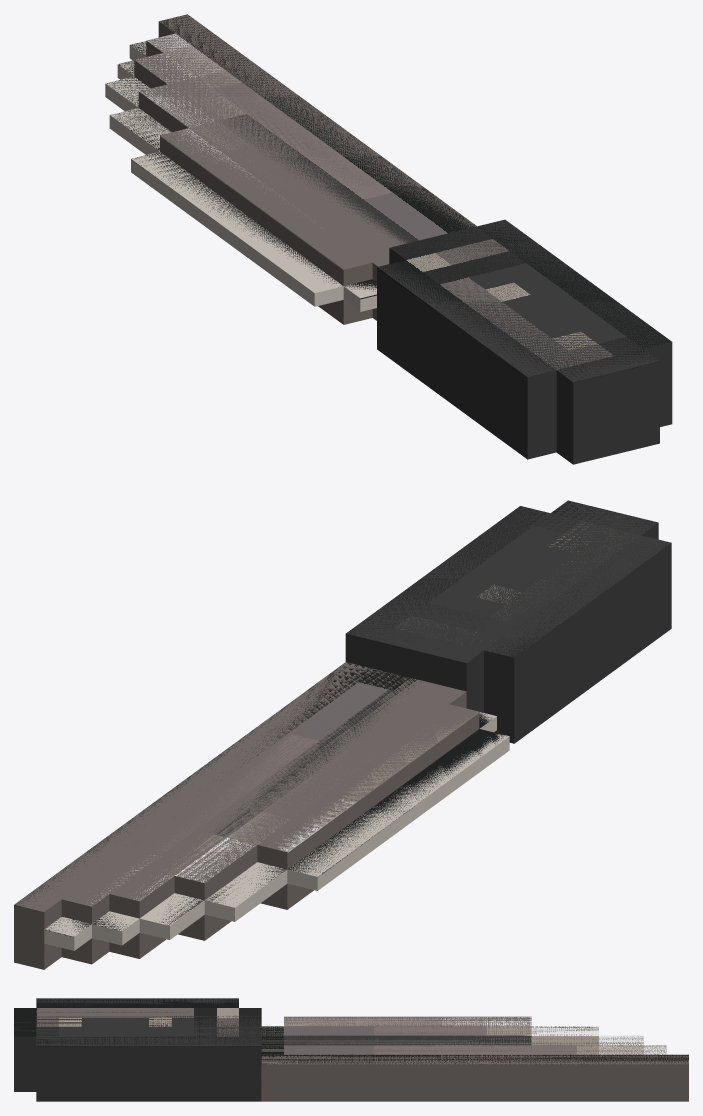
Rendered from CMU3DLooseKitchenKnife.glb.
3 renders of one model, top to bottom at view 1: azimuth 30°, elevation 25°; view 2: azimuth 150°, elevation 25°; view 3: azimuth 270°, elevation 25°, orthographic. The views are drawn at different scales.
Parts seen in each view (by area): view 1: riveted dark knife handle original surface, steel blade spine and tang original surface, riveted dark knife handle solid 2, riveted dark knife handle solid 1, riveted dark knife handle solid 3, steel blade spine and tang solid 5, thin source curved cutting edge solid 5, steel blade spine and tang solid 4, steel blade spine and tang solid 1, steel blade spine and tang solid 3, steel blade spine and tang solid 2, thin source curved cutting edge original surface (+3 smaller); view 2: riveted dark knife handle solid 1, riveted dark knife handle solid 2, steel blade spine and tang original surface, steel blade spine and tang solid 1, steel blade spine and tang solid 3, steel blade spine and tang solid 5, steel blade spine and tang solid 4, steel blade spine and tang solid 2, riveted dark knife handle original surface, thin source curved cutting edge solid 5, thin source curved cutting edge original surface, thin source curved cutting edge solid 4 (+4 smaller); view 3: steel blade spine and tang solid 1, riveted dark knife handle solid 1, steel blade spine and tang original surface, riveted dark knife handle original surface, steel blade spine and tang solid 5, steel blade spine and tang solid 2, steel blade spine and tang solid 4, steel blade spine and tang solid 3, riveted dark knife handle solid 3, riveted dark knife handle solid 2.
Boxes of the visible parts, <box> form: riveted dark knife handle original surface: <box>377,220,671,382</box>; steel blade spine and tang original surface: <box>138,14,475,270</box>; riveted dark knife handle solid 2: <box>377,262,556,459</box>; riveted dark knife handle solid 1: <box>389,219,672,426</box>; riveted dark knife handle solid 3: <box>556,349,659,464</box>; steel blade spine and tang solid 5: <box>160,128,372,324</box>; thin source curved cutting edge solid 5: <box>131,151,343,306</box>; steel blade spine and tang solid 4: <box>138,84,390,320</box>; steel blade spine and tang solid 1: <box>158,14,476,231</box>; steel blade spine and tang solid 3: <box>134,53,410,247</box>; steel blade spine and tang solid 2: <box>146,34,443,231</box>; thin source curved cutting edge original surface: <box>107,41,376,299</box>; riveted dark knife handle solid 1: <box>345,506,640,712</box>; riveted dark knife handle solid 2: <box>484,535,671,743</box>; steel blade spine and tang original surface: <box>14,662,479,911</box>; steel blade spine and tang solid 1: <box>14,662,375,969</box>; steel blade spine and tang solid 3: <box>109,677,435,958</box>; steel blade spine and tang solid 5: <box>257,704,479,909</box>; steel blade spine and tang solid 4: <box>174,684,466,940</box>; steel blade spine and tang solid 2: <box>61,669,404,964</box>; riveted dark knife handle original surface: <box>346,500,668,662</box>; thin source curved cutting edge solid 5: <box>287,734,509,890</box>; thin source curved cutting edge original surface: <box>45,712,506,936</box>; thin source curved cutting edge solid 4: <box>204,862,287,921</box>; steel blade spine and tang solid 1: <box>261,1054,688,1101</box>; riveted dark knife handle solid 1: <box>36,1011,261,1101</box>; steel blade spine and tang original surface: <box>261,1016,688,1064</box>; riveted dark knife handle original surface: <box>14,998,261,1046</box>; steel blade spine and tang solid 5: <box>284,1016,531,1026</box>; steel blade spine and tang solid 2: <box>261,1045,666,1054</box>; steel blade spine and tang solid 4: <box>261,1026,598,1035</box>; steel blade spine and tang solid 3: <box>262,1035,643,1045</box>; riveted dark knife handle solid 3: <box>14,1022,36,1091</box>; riveted dark knife handle solid 2: <box>36,998,238,1007</box>.
Bounding box in the file's own units: 0.1875 × 0.085 × 0.9375.
Materials: 6 (3 with a texture image).
